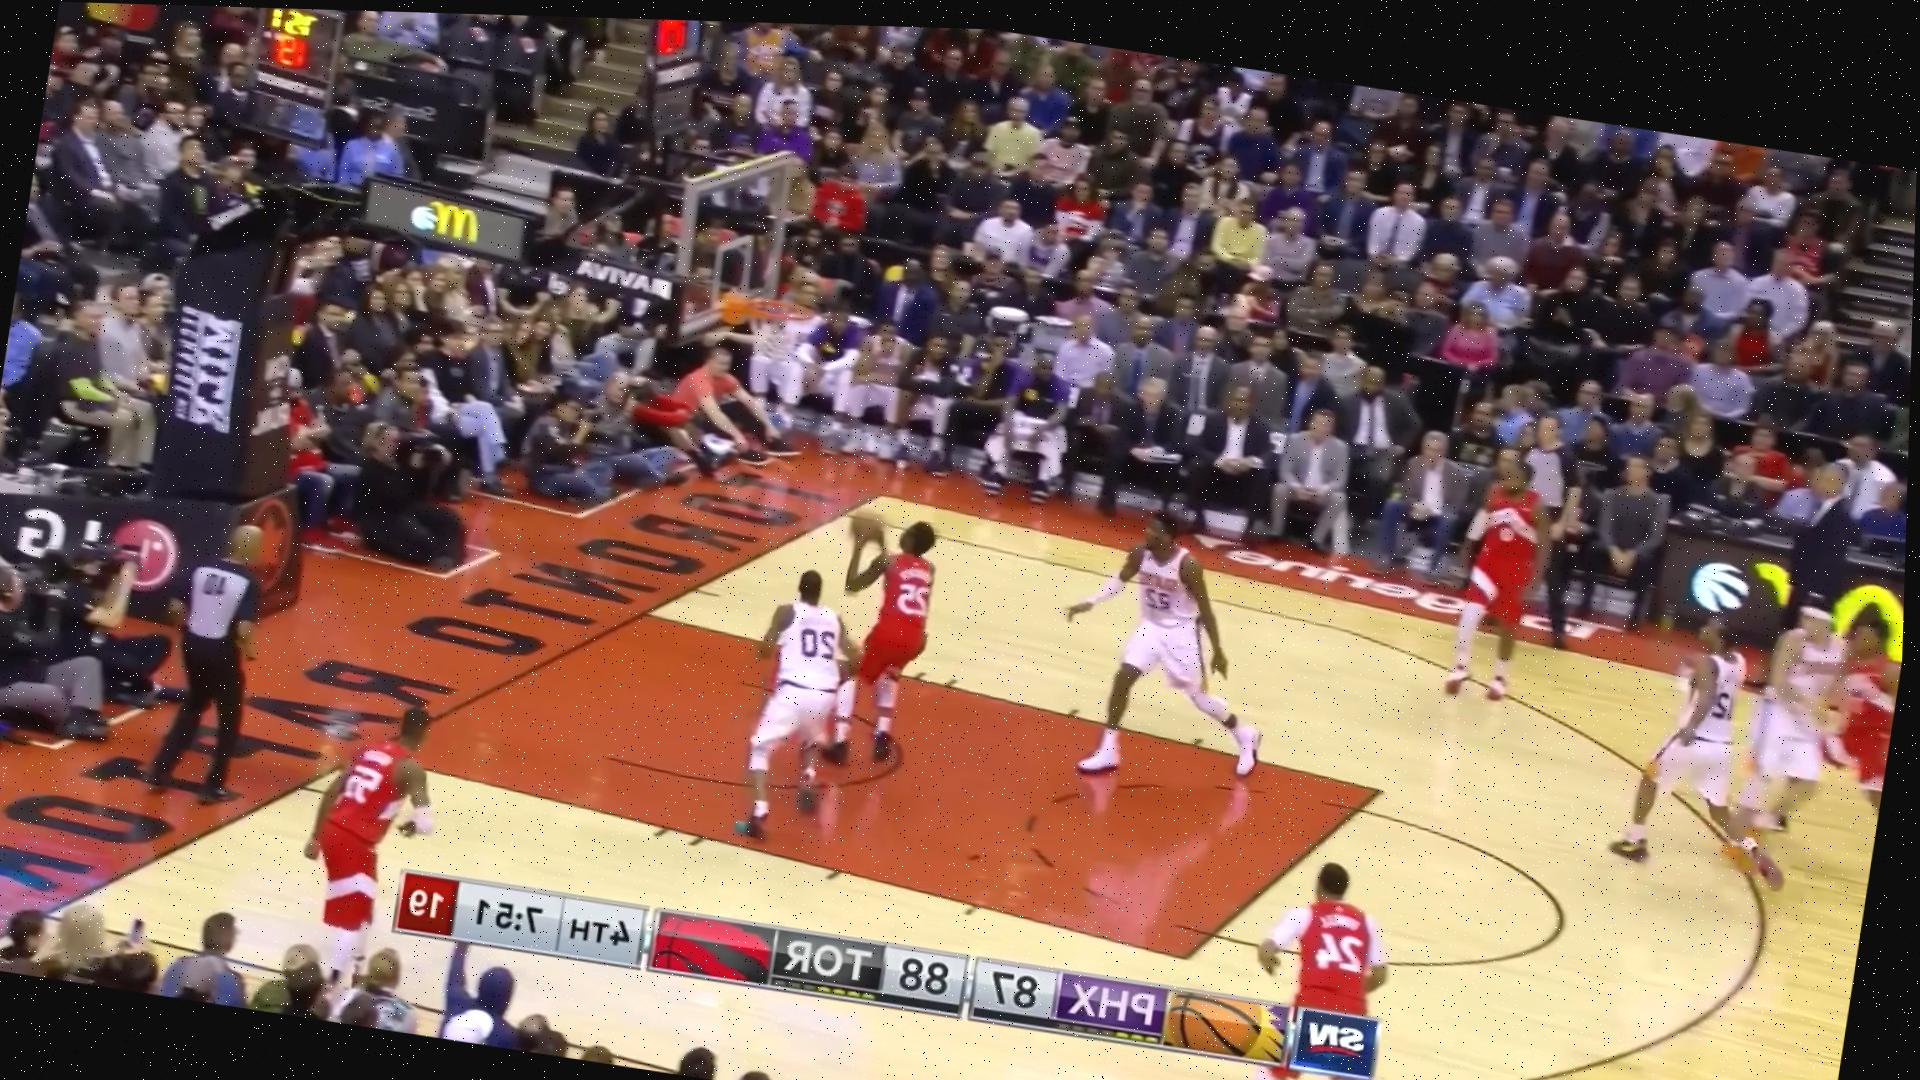no_foul: (692, 455, 994, 873)
